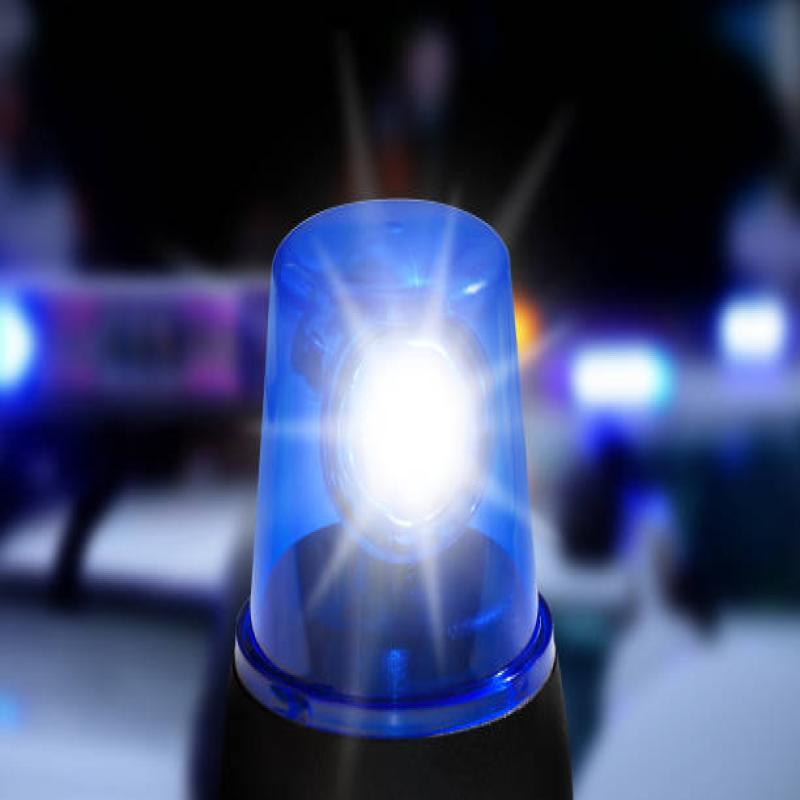AmbulanceSiren: (258, 202, 566, 698)
